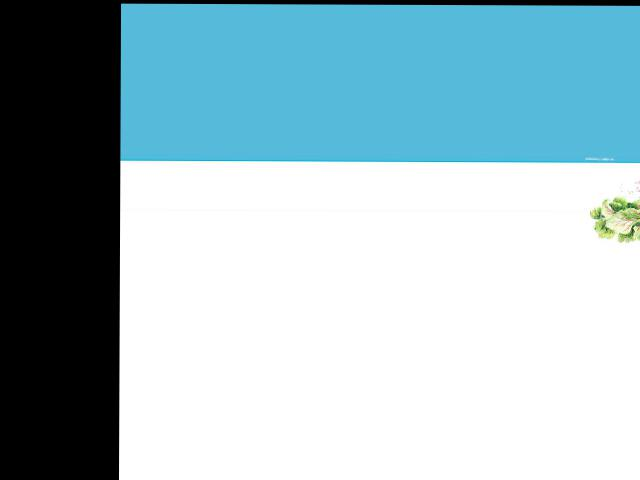beet: (588, 174, 640, 242)
